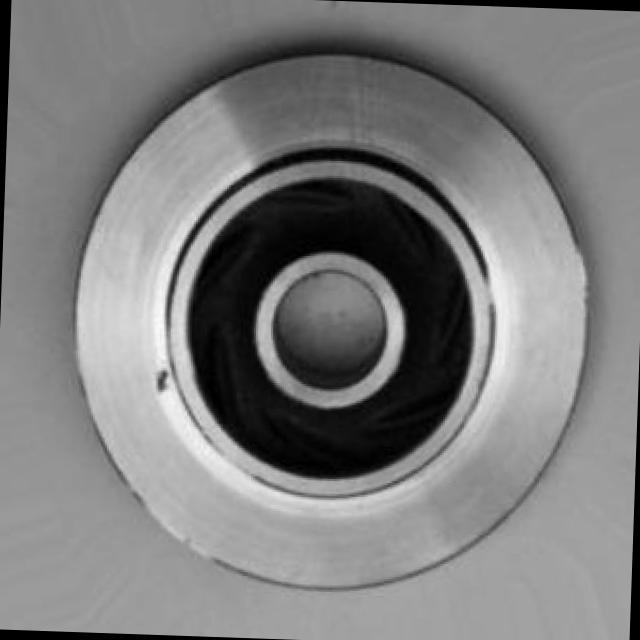Defect: (150, 354, 173, 394)
